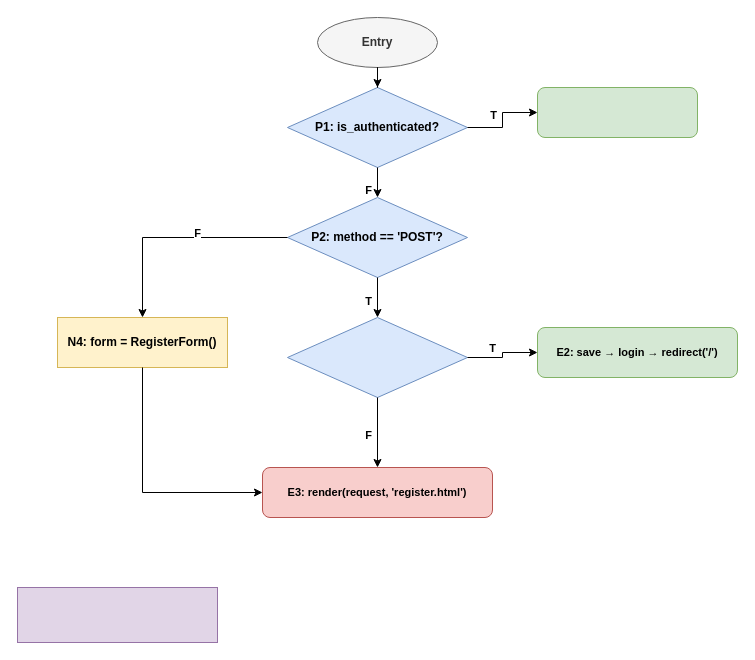
Image size: 755x660. Some labels were removed from this diagram. Here are the shapes that lost their labels. From the top down, the centre of each, then its label:
point 617,112: E1: redirect('/')
point 377,357: P3: form.is_valid()?
point 117,614: V(G) = P1+P2+P3+1 = 4 基本路径数 = 4
